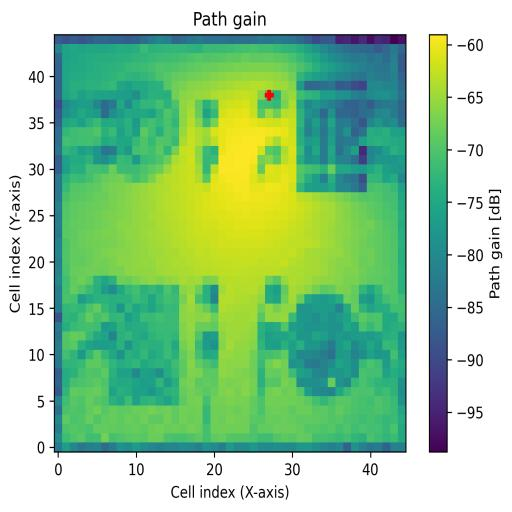Concrete: (297, 72, 366, 193)
Glass: (110, 80, 180, 182)
Metal: (289, 295, 360, 397)
Wood: (102, 284, 180, 406)
